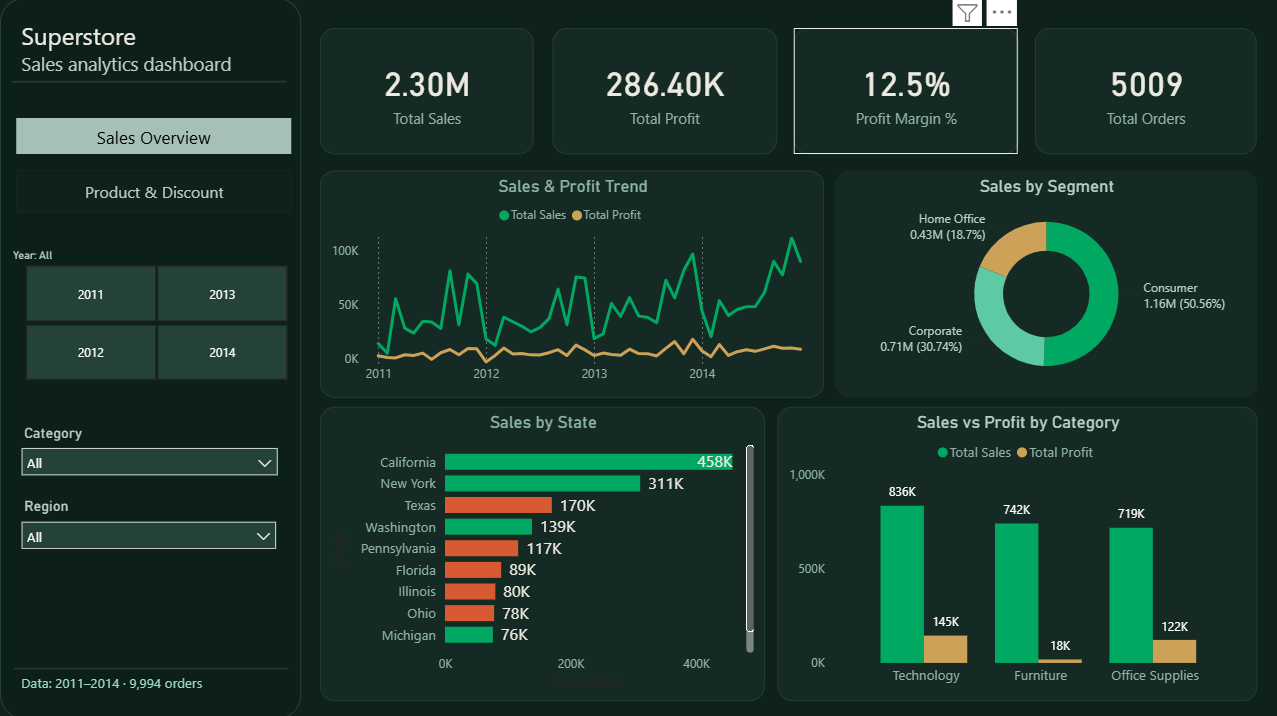

Layout of this report page (visuals, bound fields, positions):
{"tool":"powerbi","page":{"name":"Sales Overview","canvas":[1280,720],"ordinal":0},"visuals":[{"type":"card","fields":{"Values":["_Measures.Total Sales"]},"box":[320.1,29.6,213.8,126.4],"z":0},{"type":"card","fields":{"Values":["_Measures.Total Profit"]},"box":[552.7,29.6,224.6,126.4],"z":1000},{"type":"card","fields":{"Values":["_Measures.Profit Margin %"]},"box":[793.4,29.6,224.6,126.4],"z":2000},{"type":"card","fields":{"Values":["_Measures.Total Orders"]},"box":[1035.5,29.6,221.9,126.4],"z":3000},{"type":"lineChart","title":"Sales & Profit Trend","fields":{"Y":["_Measures.Total Sales","_Measures.Total Profit"],"Category":["Superstore_Cleaned.Order Date.Variation.Date Hierarchy.Year","Superstore_Cleaned.Order Date.Variation.Date Hierarchy.Quarter","Superstore_Cleaned.Order Date.Variation.Date Hierarchy.Month","Superstore_Cleaned.Order Date.Variation.Date Hierarchy.Day"]},"box":[320.1,172.1,504.3,227.3],"z":4000},{"type":"clusteredBarChart","title":"Sales by State","fields":{"Y":["_Measures.Total Sales"],"Category":["Superstore_Cleaned.State"]},"box":[320.1,408.8,445.1,294.5],"z":5000},{"type":"shape","box":[0,0,301.2,721.2],"z":6000},{"type":"actionButton","box":[16.2,120,275,36.2],"z":7000},{"type":"actionButton","box":[16.2,172.5,276.2,41.2],"z":8000},{"type":"slicer","fields":{"Values":["Superstore_Cleaned.Order Year"]},"box":[0,246.2,311.2,142.5],"z":9000},{"type":"donutChart","title":"Sales by Segment","fields":{"Category":["Superstore_Cleaned.Segment"],"Y":["_Measures.Total Sales"]},"box":[835.1,172.1,422.3,227.3],"z":10000},{"type":"clusteredColumnChart","title":" Sales vs Profit by Category","fields":{"Category":["Superstore_Cleaned.Category"],"Y":["_Measures.Total Sales","_Measures.Total Profit"]},"box":[777.3,408.8,480.1,294.5],"z":11000},{"type":"textbox","box":[16.2,16.2,275,67.5],"z":12000},{"type":"slicer","fields":{"Values":["Superstore_Cleaned.Region"]},"box":[11.2,495,275,73.8],"z":13000},{"type":"slicer","fields":{"Values":["Superstore_Cleaned.Category"]},"box":[11.2,421.2,276.2,73.8],"z":14000},{"type":"textbox","box":[16.1,671.1,224.6,32.3],"z":15000},{"type":"shape","box":[11.2,62.5,275,42.5],"z":16000},{"type":"shape","box":[13.8,621.2,275,98.8],"z":17000}]}

Visuals, with their boxes in screenshot pixels (x1, y1, x2, y2), scaled from the page's 1280x720 canvas onto the 1277x716 screenshot:
card - _Measures.Total Sales: box=[319, 29, 533, 155]
card - _Measures.Total Profit: box=[551, 29, 775, 155]
card - _Measures.Profit Margin %: box=[792, 29, 1016, 155]
card - _Measures.Total Orders: box=[1033, 29, 1254, 155]
"Sales & Profit Trend" lineChart: box=[319, 171, 822, 397]
"Sales by State" clusteredBarChart: box=[319, 407, 763, 699]
shape: box=[0, 0, 300, 715]
actionButton: box=[16, 119, 291, 155]
actionButton: box=[16, 172, 292, 213]
slicer - Superstore_Cleaned.Order Year: box=[0, 245, 310, 387]
"Sales by Segment" donutChart: box=[833, 171, 1254, 397]
" Sales vs Profit by Category" clusteredColumnChart: box=[775, 407, 1254, 699]
textbox: box=[16, 16, 291, 83]
slicer - Superstore_Cleaned.Region: box=[11, 492, 286, 566]
slicer - Superstore_Cleaned.Category: box=[11, 419, 287, 492]
textbox: box=[16, 667, 240, 699]
shape: box=[11, 62, 286, 104]
shape: box=[14, 618, 288, 715]
